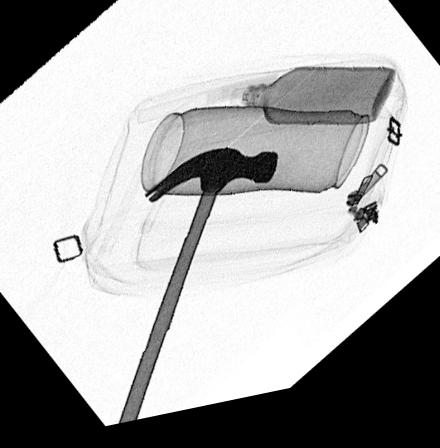Hammer: (119, 156, 279, 428)
